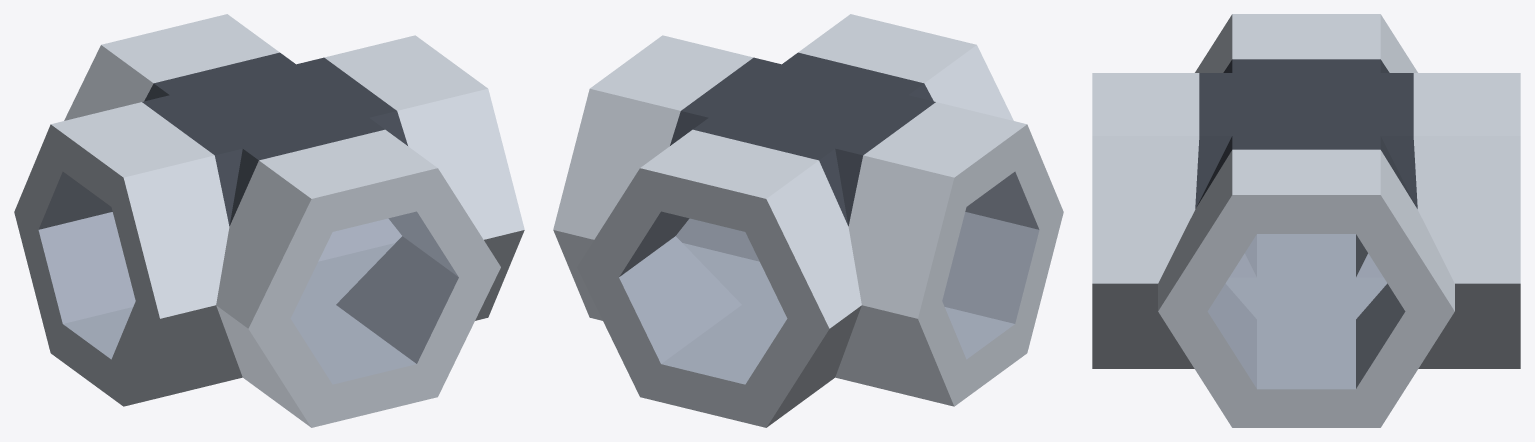
File: pipe_cross.dae
3 renders of one model, left to right at view 1: azimuth 30°, elevation 25°; view 2: azimuth 150°, elevation 25°; view 3: azimuth 270°, elevation 25°, orthographic.
Parts seen in each view (by area): view 1: pipe_cross; view 2: pipe_cross; view 3: pipe_cross.
Part boxes in pixels (x1,y1,x2,y2): pipe_cross: [14, 14, 524, 427]; pipe_cross: [553, 14, 1063, 427]; pipe_cross: [1092, 14, 1520, 427].
Size of the model in its own units: 1 by 0.6 by 1.
